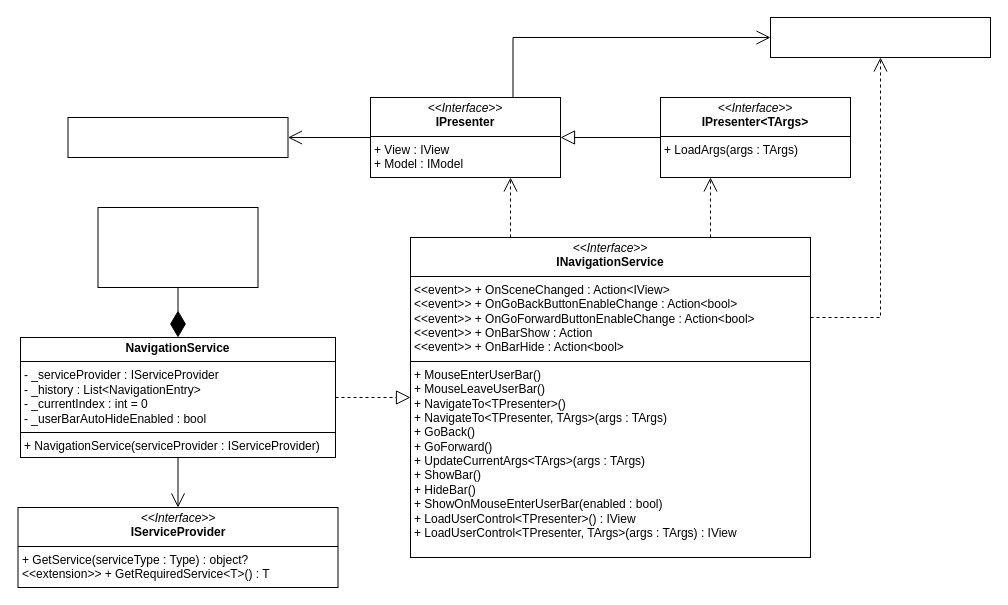
The diagram is 1008 pixels wide and 605 high, and some of its shapes have lost their labels. The shapes that lost their labels are listed below. From the top down, each one's box as (x1, y1, x2, y2) in pixels, then its label:
(770, 16, 990, 58): <<Interface>> IView
(67, 116, 288, 158): <<Interface>> IModel
(97, 206, 258, 288): <<record>> NavigationEntry + PresenterType : Type + Args : object?
